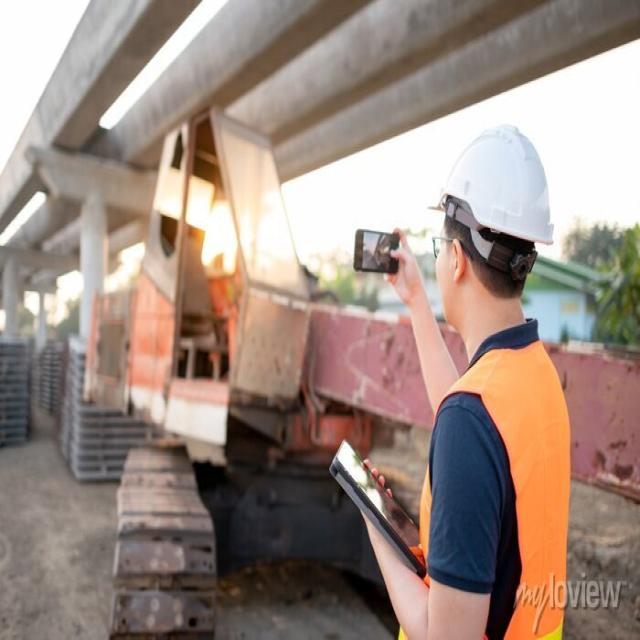helmet: (431, 124, 562, 247)
vest: (423, 339, 565, 639)
